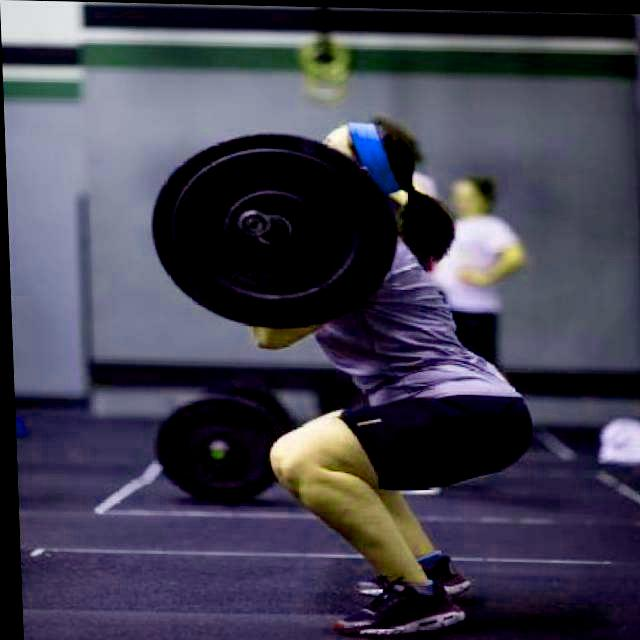barbell: (141, 123, 404, 330)
